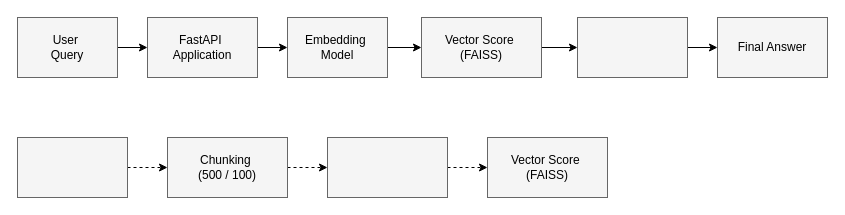
Image size: 845x215. Some labels were removed from this diagram. The shapes that lost their labels are listed below. From the top down, each one's box as (x1, y1, x2, y2) in pixels, then its label:
(576, 16, 688, 78): Top-K Retrieval
(16, 136, 128, 198): Documents
(326, 136, 448, 198): Embeddings
